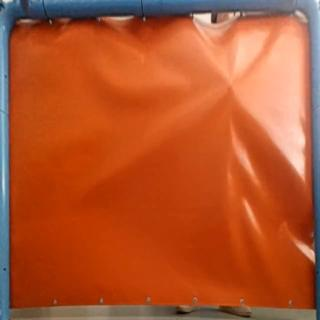Hit-hRxx: (225, 82, 237, 92)
